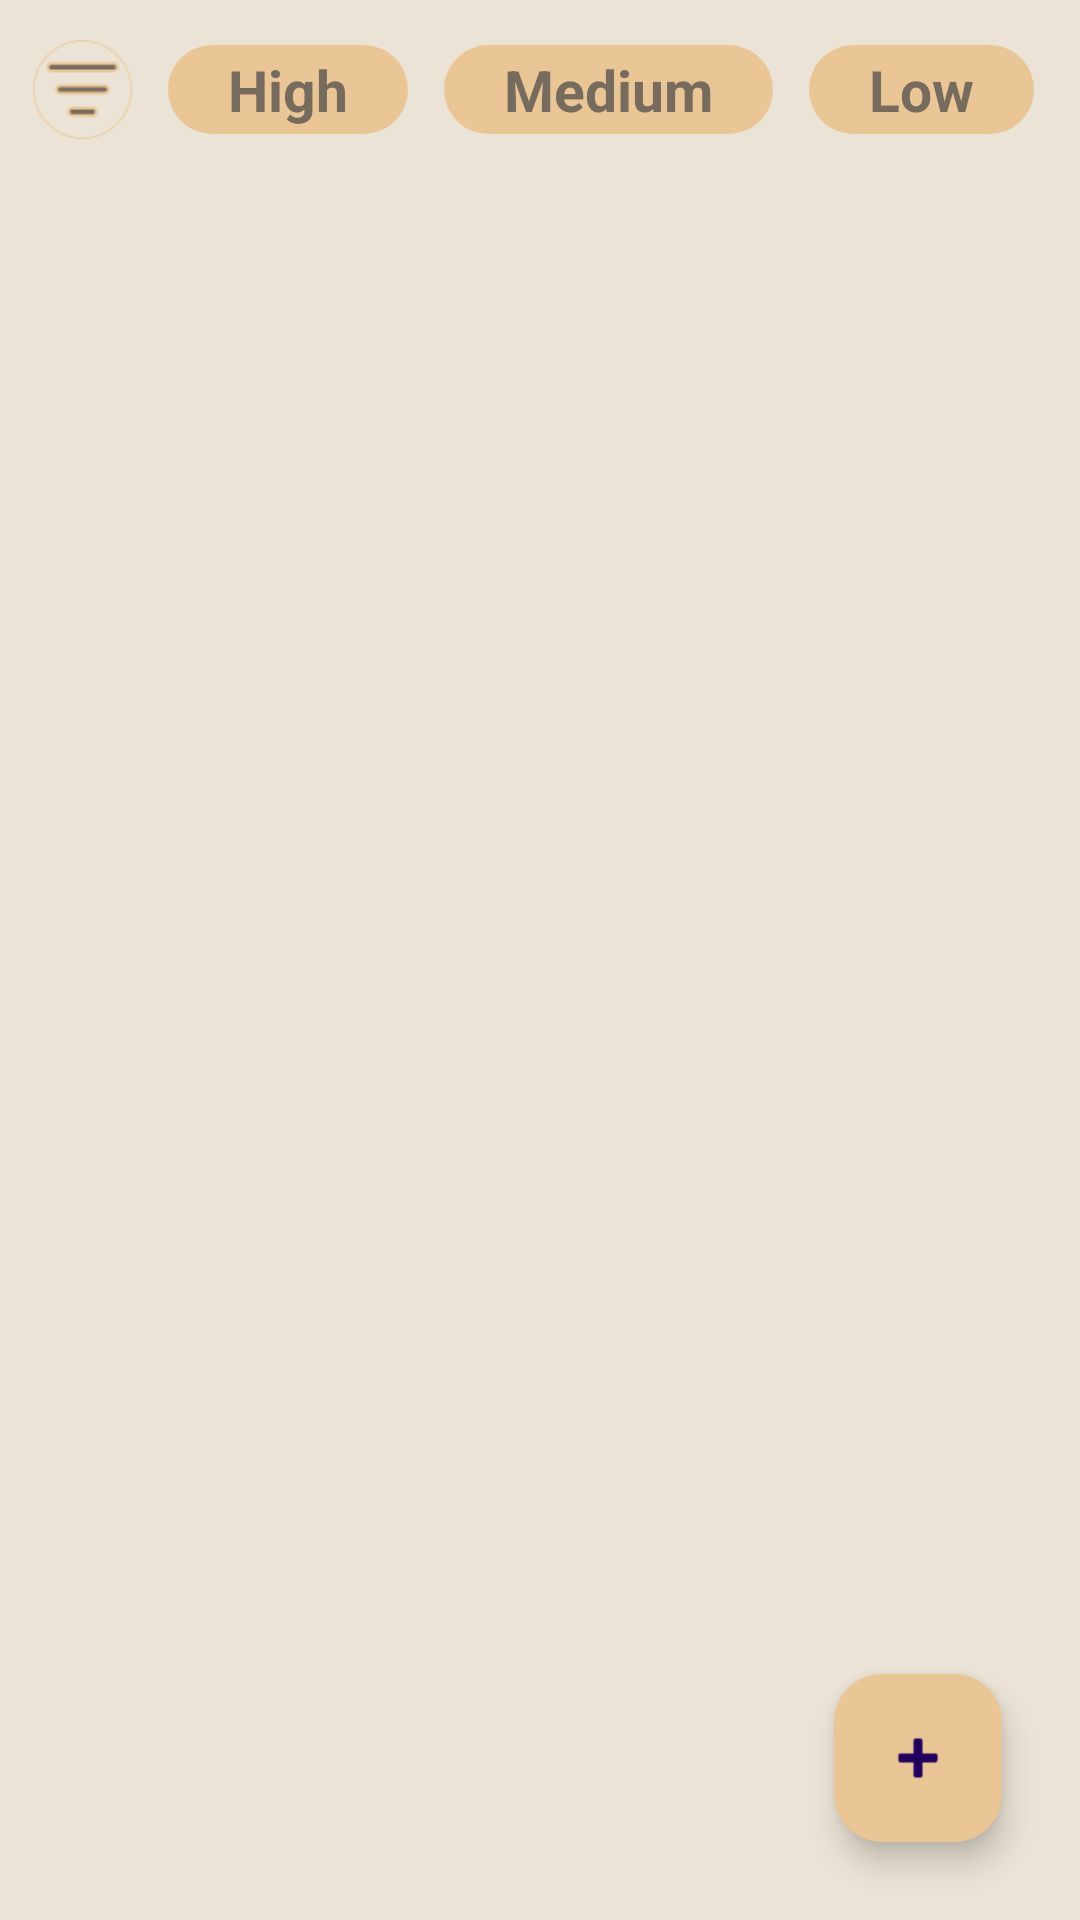

Point at icon controls on the screen. Image size 1080px×1920px, points as (x,y).
add: (918,1758)
filter: (82,89)
